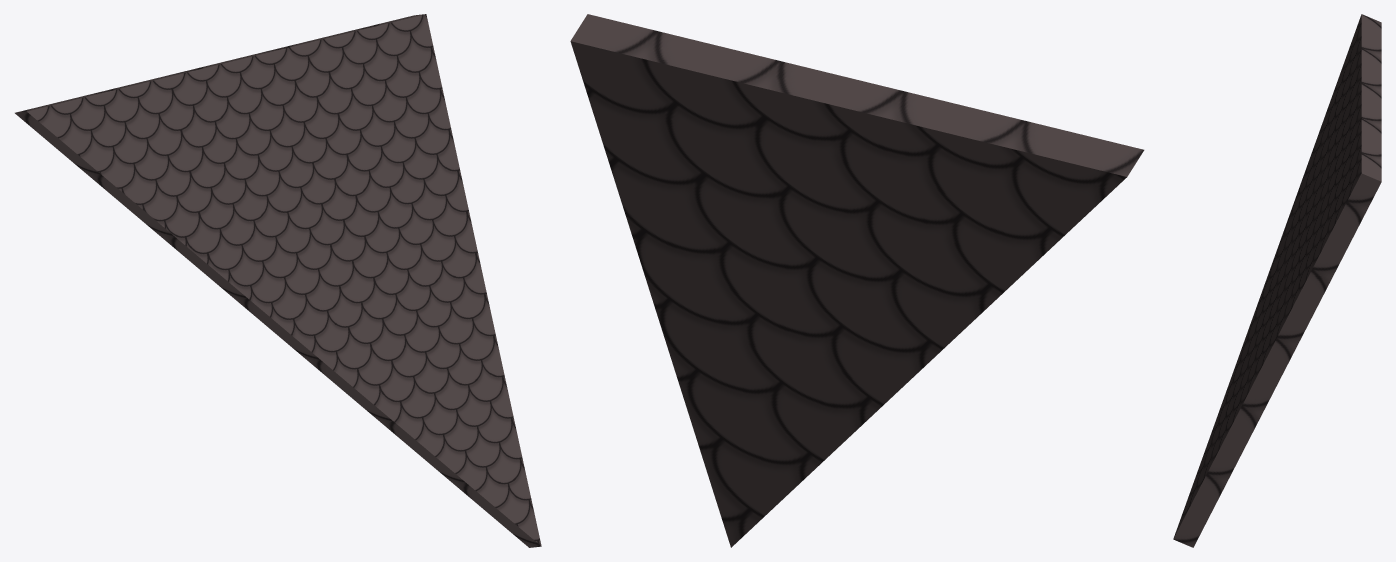
The model's file is schoolroofEdge.fbx.
3 renders of one model, left to right at view 1: azimuth 30°, elevation 25°; view 2: azimuth 150°, elevation 25°; view 3: azimuth 270°, elevation 25°, orthographic. The views are drawn at different scales.
Visible parts, largest first — view 1: roofEdge; view 2: roofEdge; view 3: roofEdge.
Part boxes in pixels (x1,y1,x2,y2): roofEdge: [15, 14, 541, 547]; roofEdge: [570, 14, 1144, 547]; roofEdge: [1173, 14, 1381, 547].
Bounding box in the file's own units: 508 × 556 × 281.
1 material, 1 textured.
